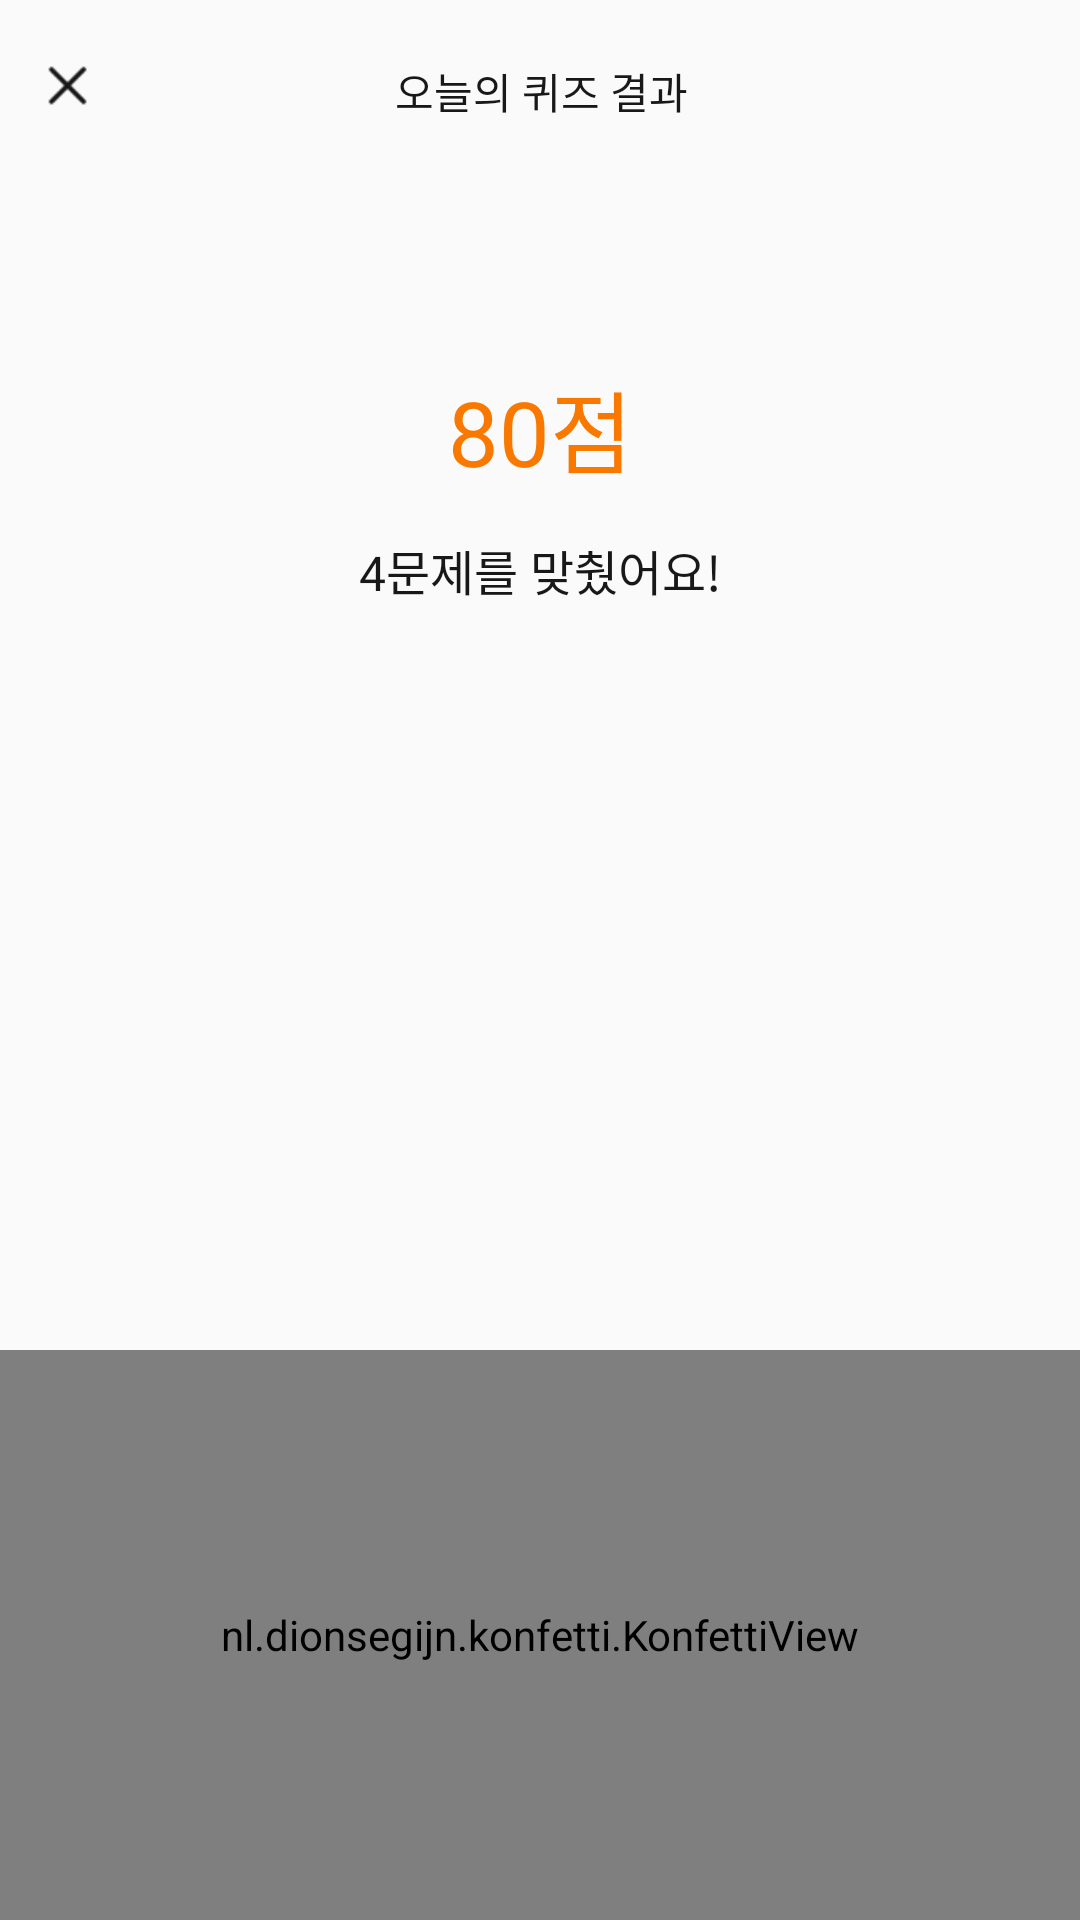

Icon click points for this 1080px x 1920px phone screenshot, format point (x, y):
close: point (67, 85)
